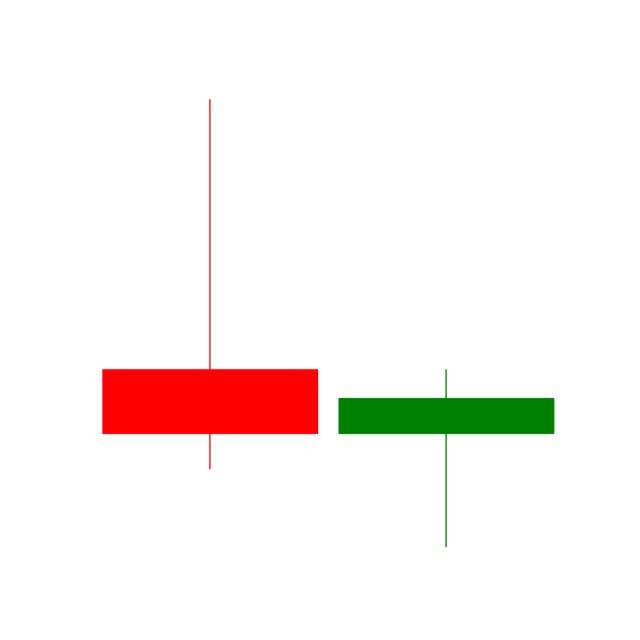Hammer: (327, 366, 565, 550)
Shooting Star: (95, 96, 322, 478)
